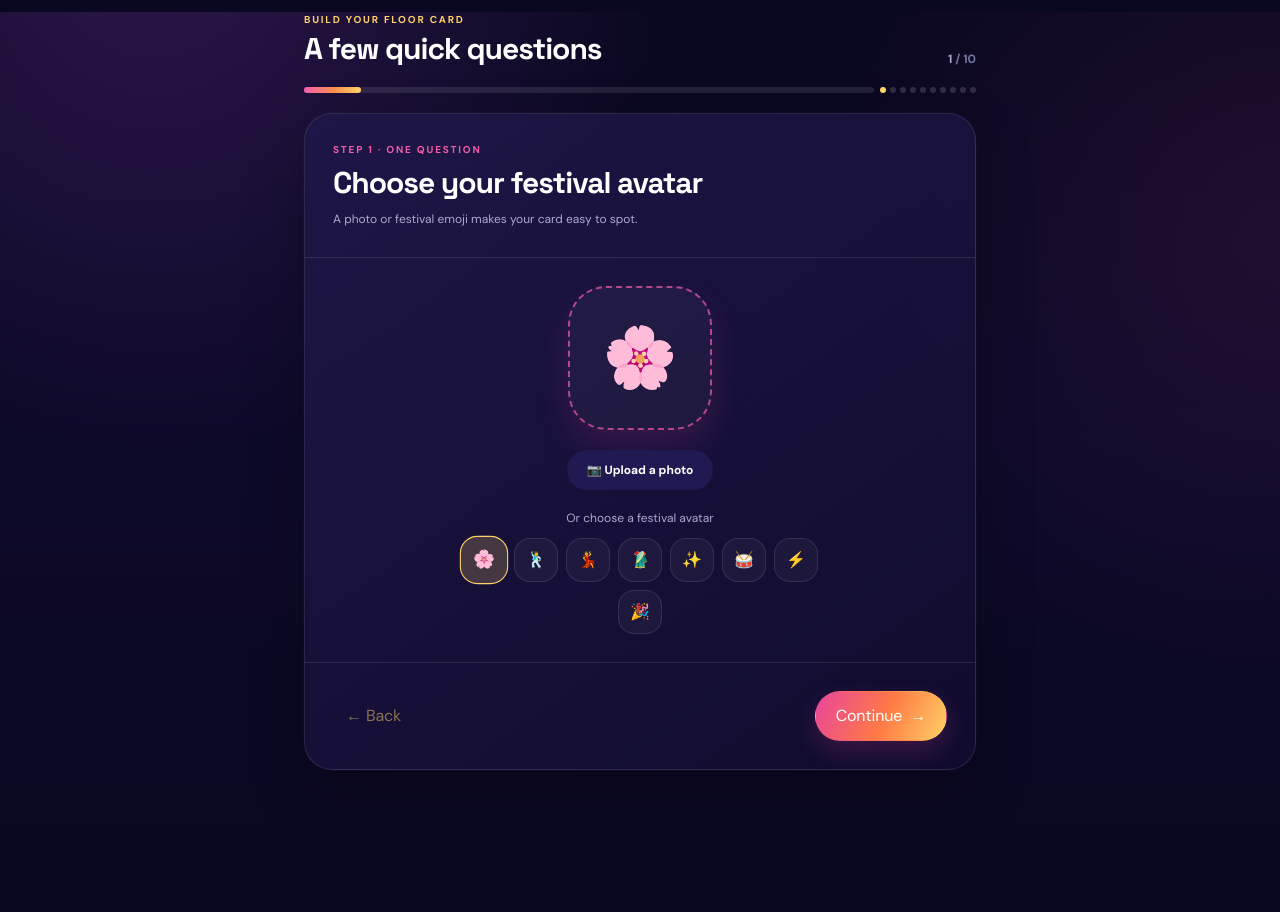
real onboarding controls and authenticated submission › keeps a reliable Google identity name read-only
This screenshot has width=1280, height=912.
Step 1. Click the button "Continue →" → {"x": 881, "y": 716}, box [815,691,947,741]
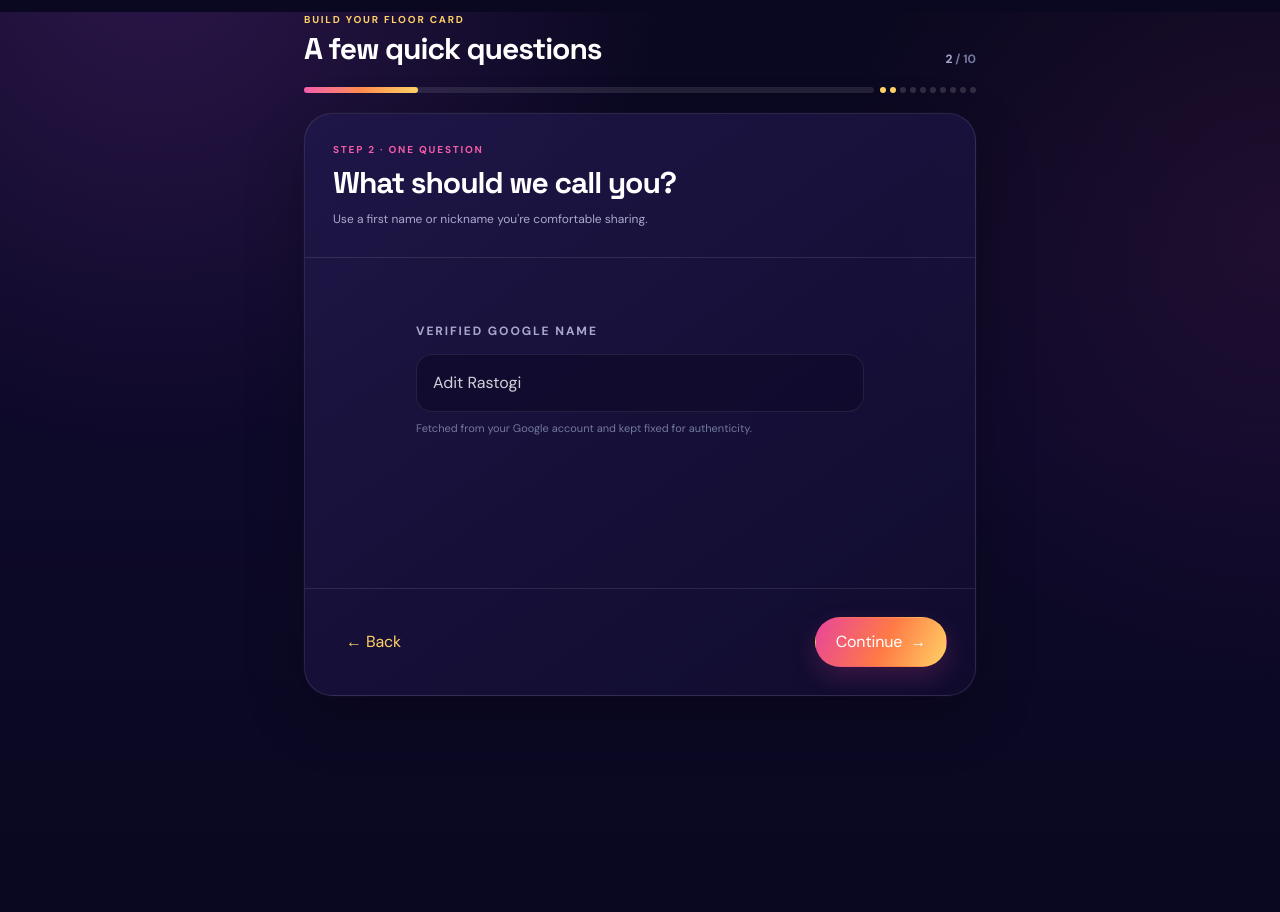
Result: the field labelled "Verified Google name" holds "Adit Rastogi" at [416,354,864,412]
